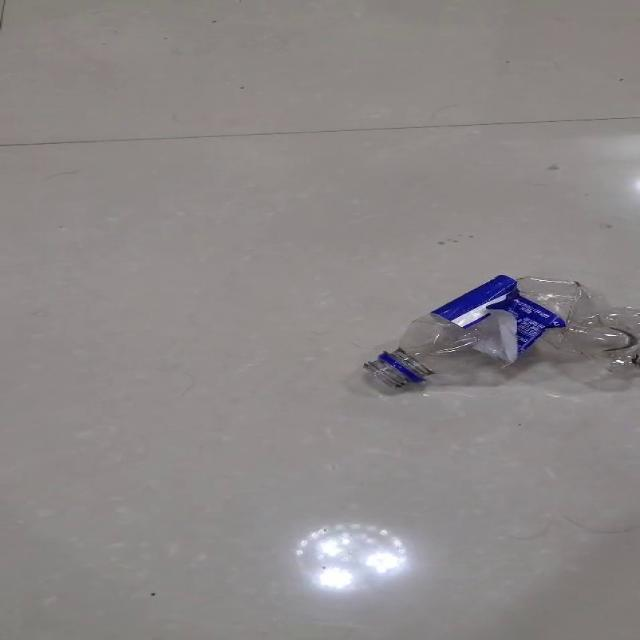plastic: (360, 274, 637, 396)
